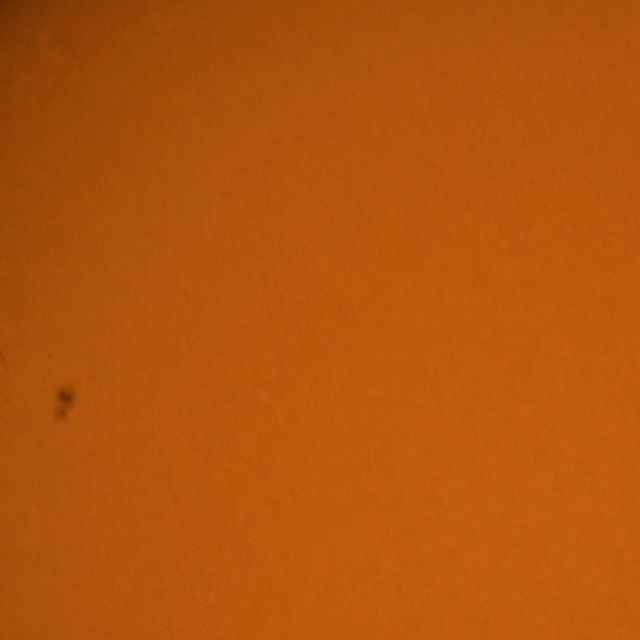sunspot: (53, 386, 75, 424)
